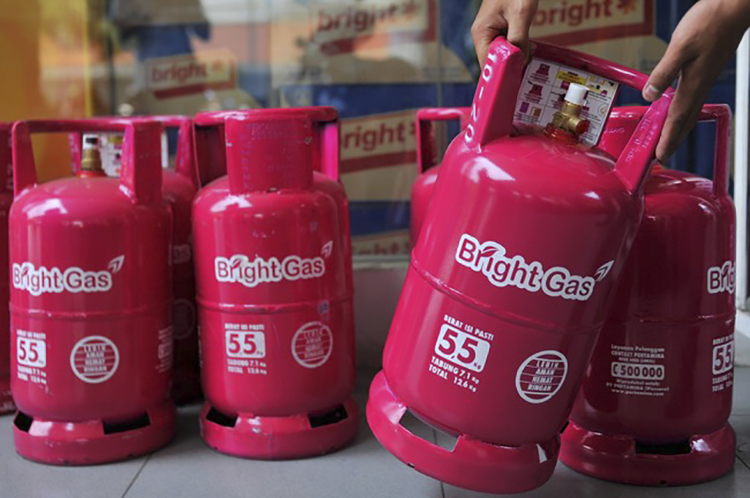bright_gas: (367, 35, 672, 490), (552, 94, 740, 487), (11, 115, 179, 467), (193, 105, 358, 461), (67, 123, 187, 356), (412, 105, 477, 247)
